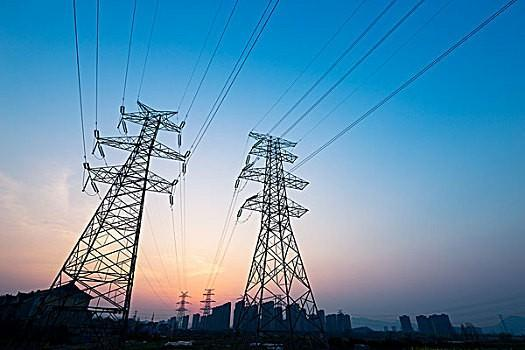power_tower: (52, 94, 191, 319), (234, 125, 322, 311), (199, 280, 222, 314), (174, 288, 194, 316)
